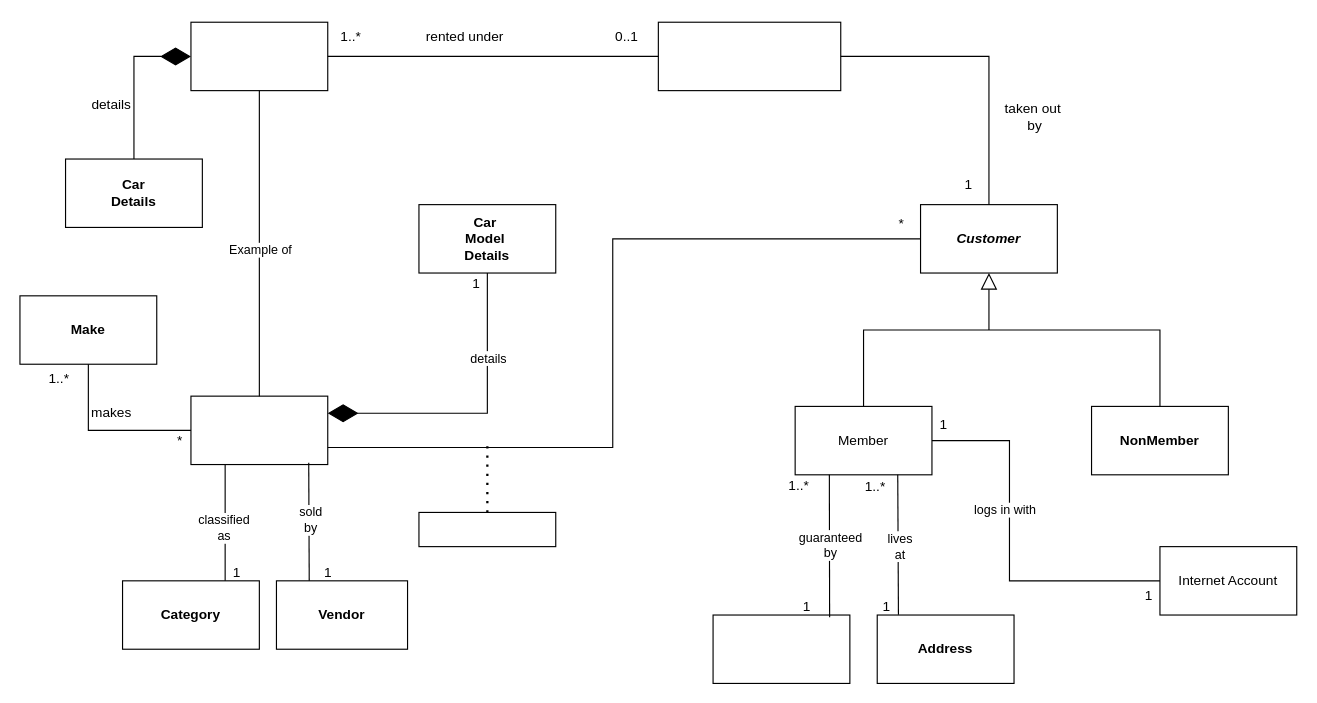
Some shapes in this 1317 by 703 pixel diagram are drawn without their labels. The shapes that lost their labels are listed below. From the top down, each one's box as (x1, y1, x2, y2) in pixels, then its label:
(190, 21, 328, 91): Car
(657, 21, 841, 91): Rental
(190, 395, 328, 465): Car Model
(418, 511, 556, 547): Reservation
(712, 614, 850, 683): Credit card
